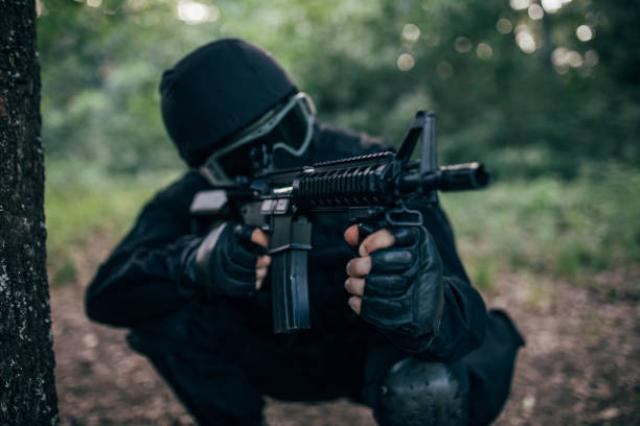other: (140, 60, 456, 394)
